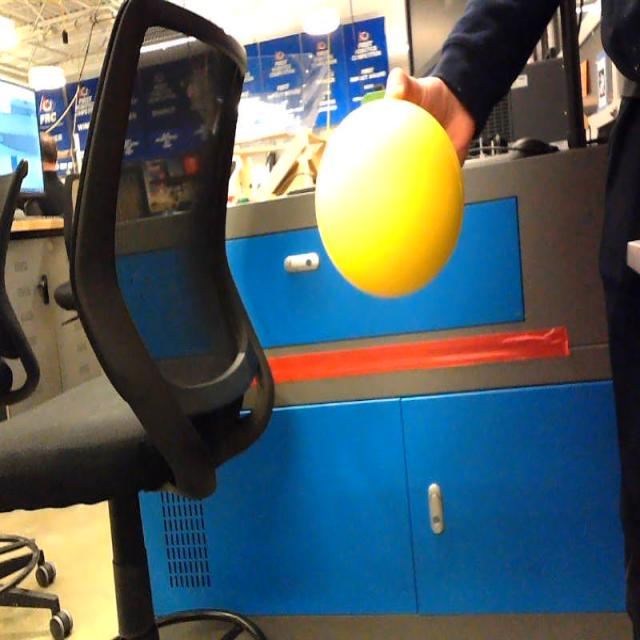Fuel: (315, 98, 464, 299)
